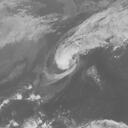cyclone: (54, 5, 127, 70)
